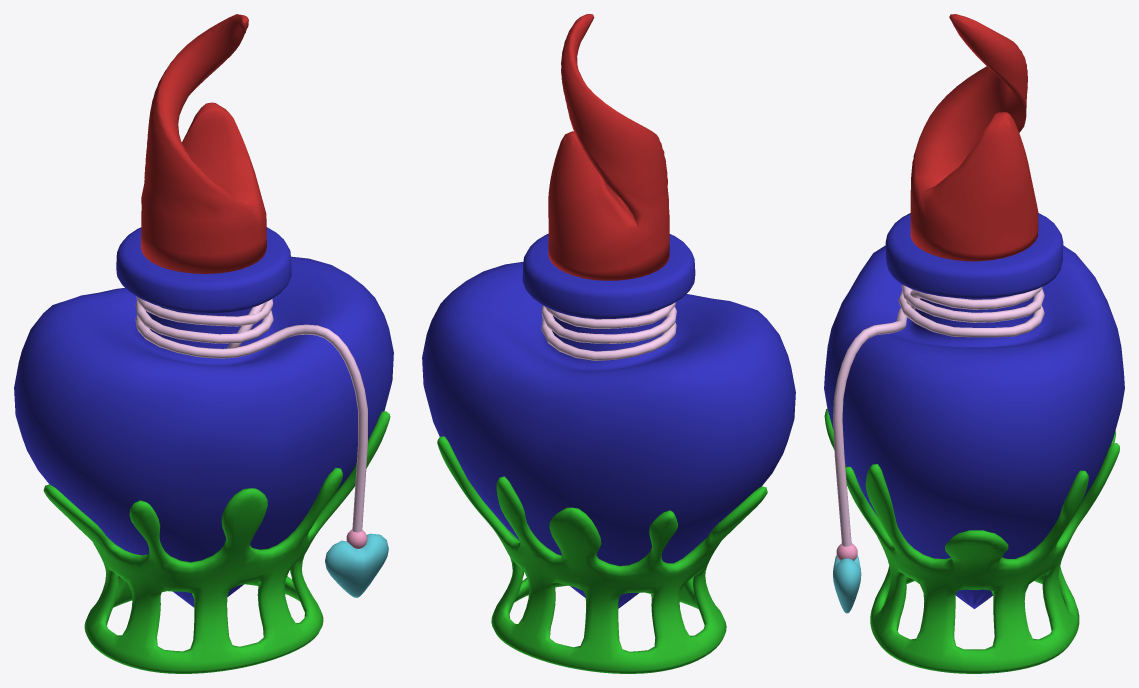
The model's file is bottle.glb.
The picture shows the model from 3 angles, left to right: view 1: azimuth 30°, elevation 25°; view 2: azimuth 150°, elevation 25°; view 3: azimuth 270°, elevation 25°; orthographic projection. The views are drawn at different scales.
Parts seen in each view (by area): view 1: Bottle_node, Stand_node, Cork_node, Rope_node, Heart_node; view 2: Bottle_node, Stand_node, Cork_node, Rope_node; view 3: Bottle_node, Stand_node, Cork_node, Rope_node, Heart_node.
Part boxes in pixels (x1,y1,x2,y2): Bottle_node: (14, 227, 393, 607); Stand_node: (43, 411, 390, 673); Cork_node: (141, 14, 266, 273); Rope_node: (135, 296, 367, 532); Heart_node: (325, 533, 388, 597); Bottle_node: (422, 233, 795, 608); Stand_node: (437, 436, 767, 673); Cork_node: (548, 14, 669, 280); Rope_node: (541, 302, 676, 360); Bottle_node: (824, 213, 1124, 608); Stand_node: (824, 408, 1119, 673); Cork_node: (910, 14, 1038, 261); Rope_node: (833, 284, 1044, 546); Heart_node: (833, 555, 861, 613).
Size of the model in its own units: 144 by 242 by 106.
